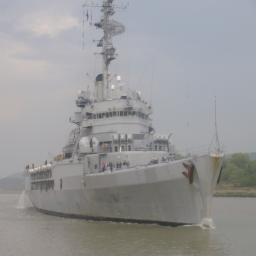Portanaves: (20, 1, 230, 228)
